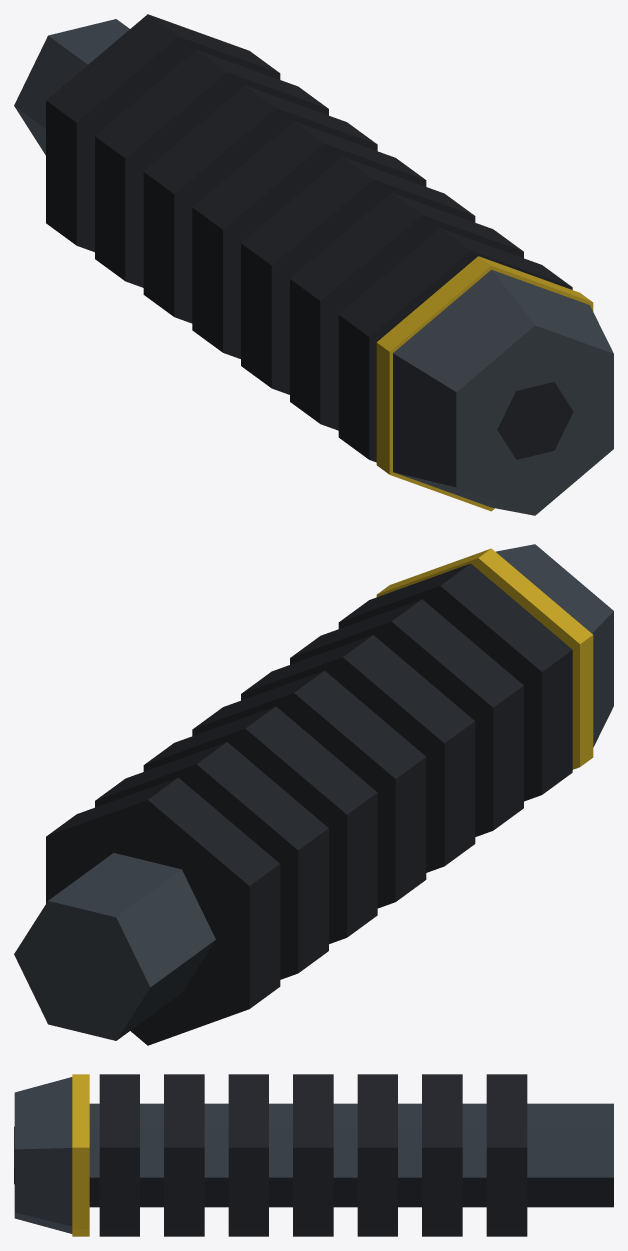
File: bp10_coil.obj
The picture shows the model from 3 angles, top to bottom: view 1: azimuth 30°, elevation 25°; view 2: azimuth 150°, elevation 25°; view 3: azimuth 270°, elevation 25°; orthographic projection. The views are drawn at different scales.
Parts seen in each view (by area): view 1: bp10_coil; view 2: bp10_coil; view 3: bp10_coil.
Boxes of the visible parts, x1,y1,x2,y2 form: bp10_coil: (14, 14, 613, 515); bp10_coil: (14, 544, 613, 1045); bp10_coil: (14, 1074, 613, 1236).
Bounding box in the file's own units: 0.2685 × 0.31 × 1.04.
